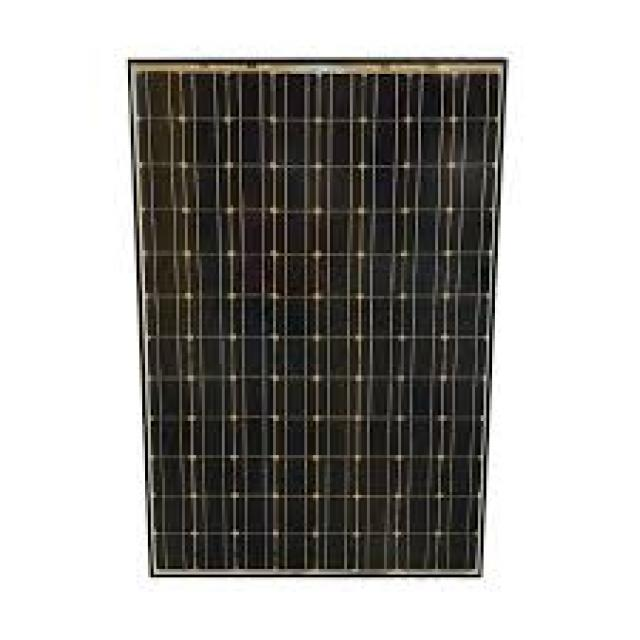faulty: (130, 58, 498, 584)
